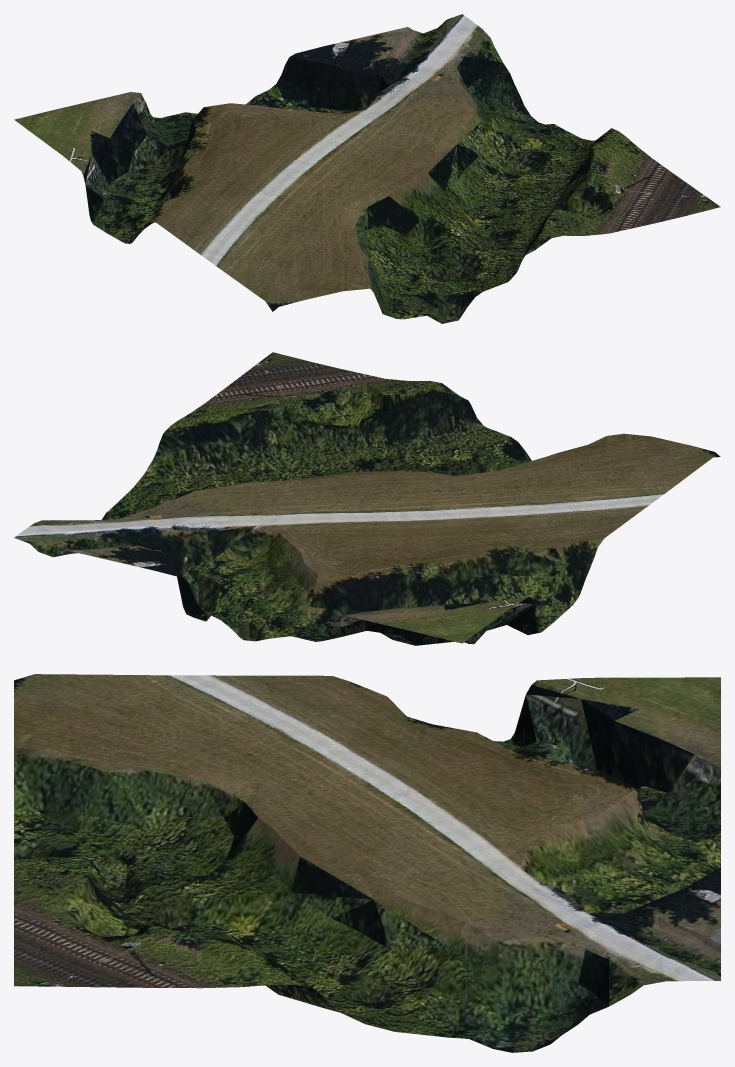
The model's file is map_15_8181_13787.dae.
The picture shows the model from 3 angles, top to bottom: view 1: azimuth 30°, elevation 25°; view 2: azimuth 150°, elevation 25°; view 3: azimuth 270°, elevation 25°; orthographic projection. The views are drawn at different scales.
Visible parts, largest first — view 1: Ter0; view 2: Ter0; view 3: Ter0.
Part boxes in pixels (bbox=[...]): Ter0: bbox=[14, 14, 720, 323]; Ter0: bbox=[14, 352, 720, 645]; Ter0: bbox=[14, 674, 720, 1052].
Bounding box in the file's own units: 63.87 × 63.88 × 9.06.
Materials: 2 (2 with a texture image).
